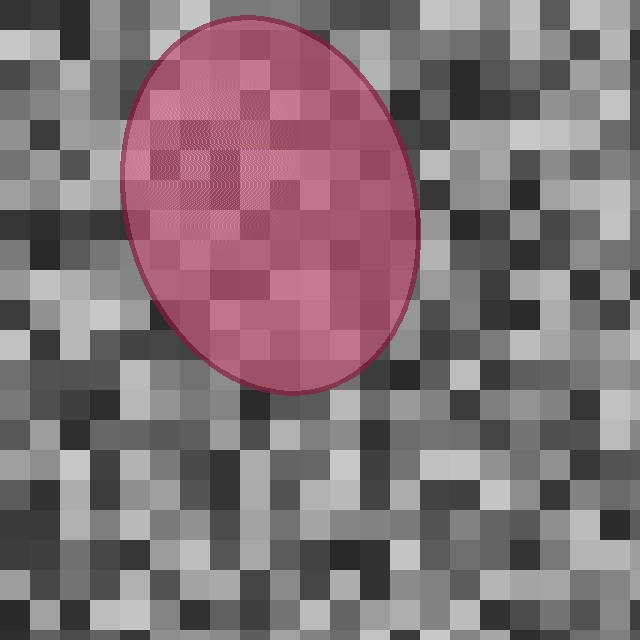lens: (123, 17, 417, 393)
